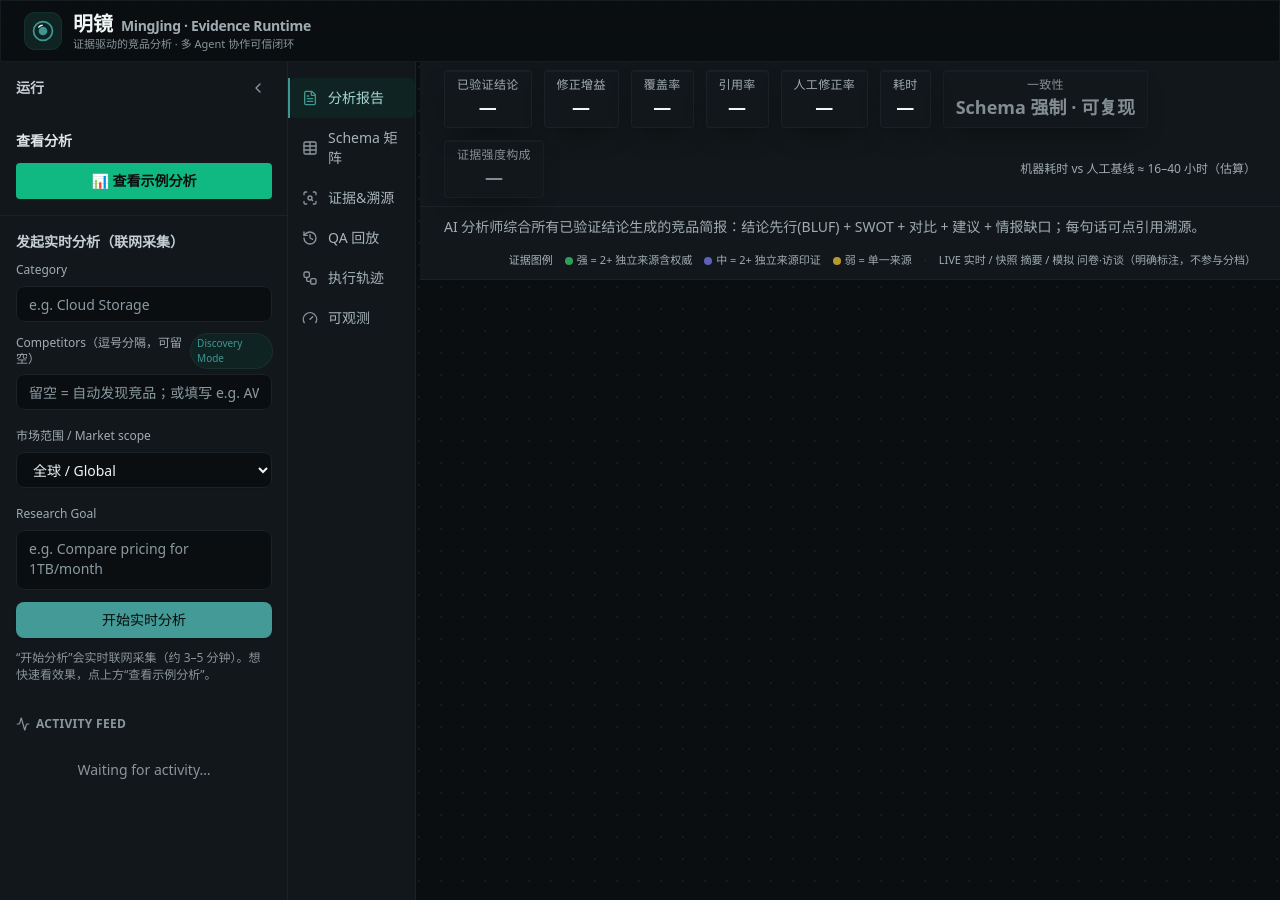
Scenario: App nav › clicking Schema 矩阵 shows the SchemaMatrix no-run state
The width and height of the screenshot is (1280, 900).
Click the button with test id "nav-schema" at (352, 148), box [288,118,415,178]
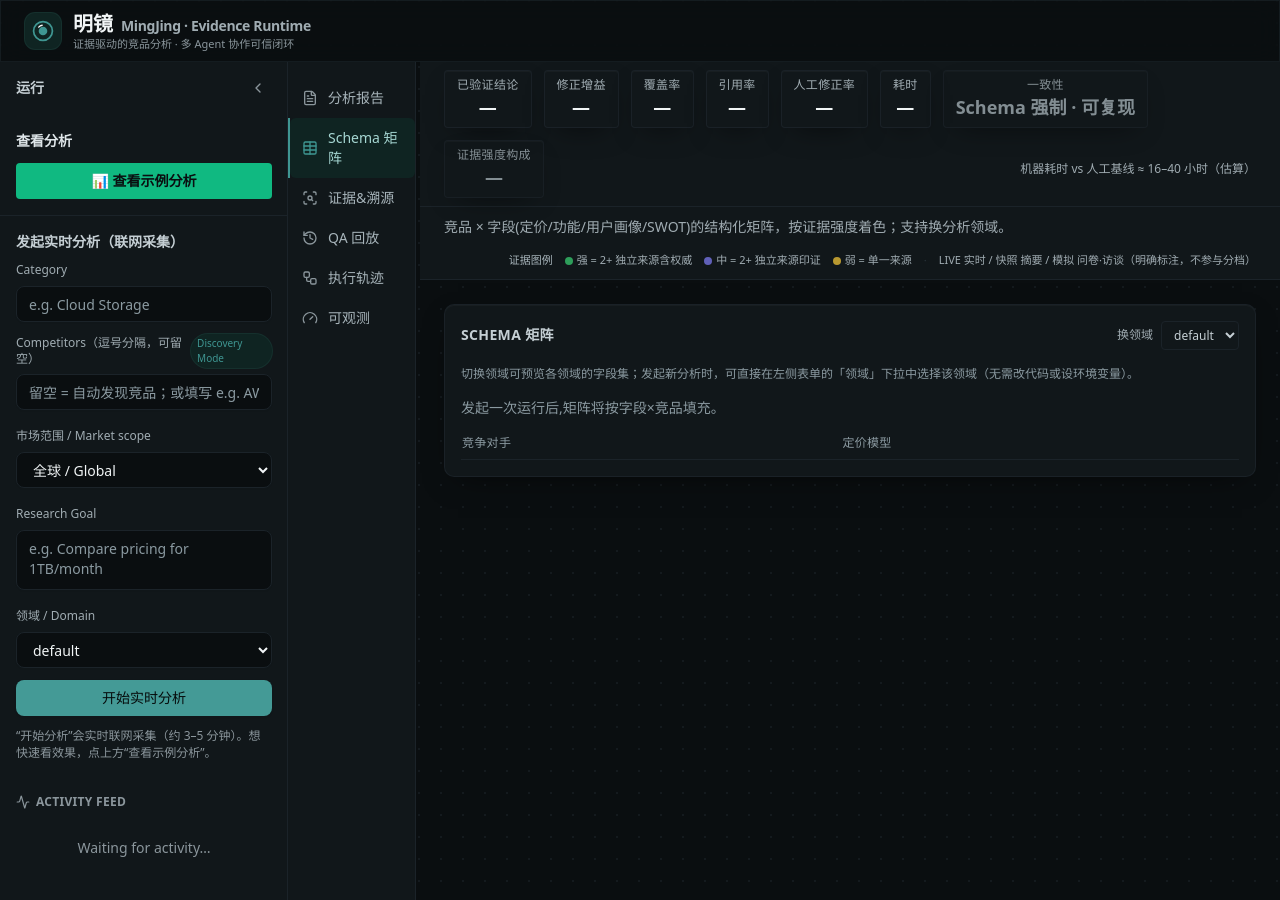
Expected: the text "发起一次运行后,矩阵将按字段×竞品填充。" is shown, [461,398,725,417]
